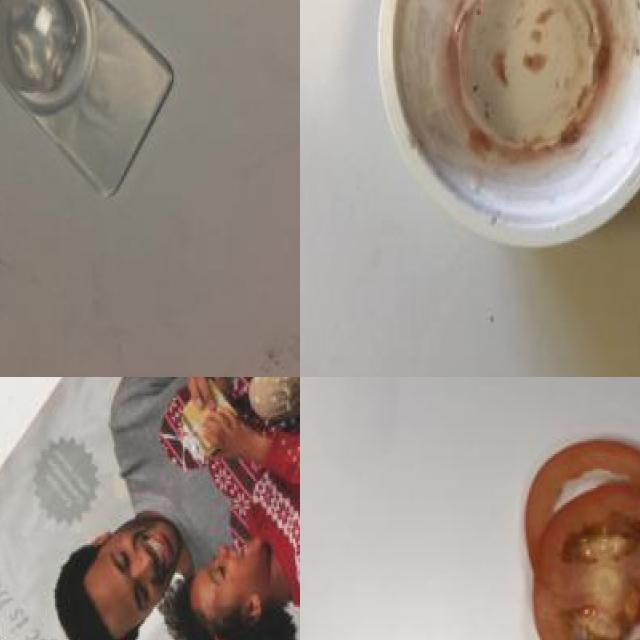compost: (484, 378, 640, 640)
paper: (0, 377, 300, 640)
trash: (363, 0, 640, 271), (0, 0, 186, 213)
